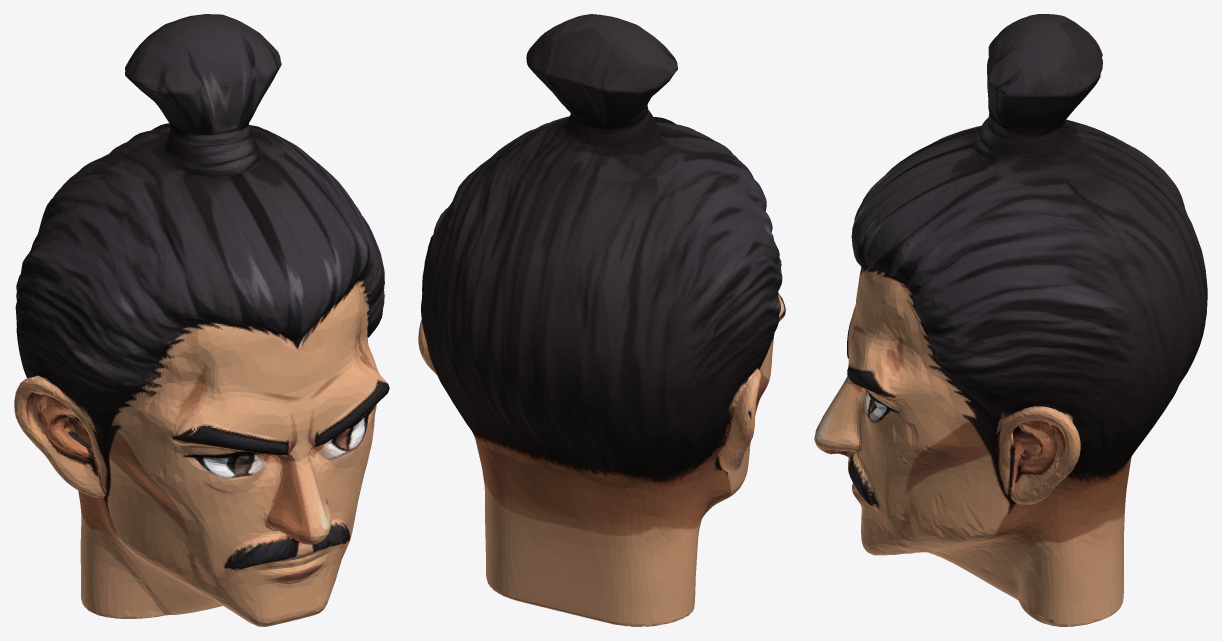
File: side_taxman_repaired_atlas.glb
The picture shows the model from 3 angles, left to right: view 1: azimuth 30°, elevation 25°; view 2: azimuth 150°, elevation 25°; view 3: azimuth 270°, elevation 25°; orthographic projection. The views are drawn at different scales.
Parts seen in each view (by area): view 1: temp_mesh.ply; view 2: temp_mesh.ply; view 3: temp_mesh.ply.
Part boxes in pixels (x1,y1,x2,y2): temp_mesh.ply: (14, 14, 389, 626); temp_mesh.ply: (418, 14, 785, 626); temp_mesh.ply: (814, 14, 1207, 626).
Size of the model in its own units: 0.8897 by 1.43 by 0.913.
1 material, 1 textured.
